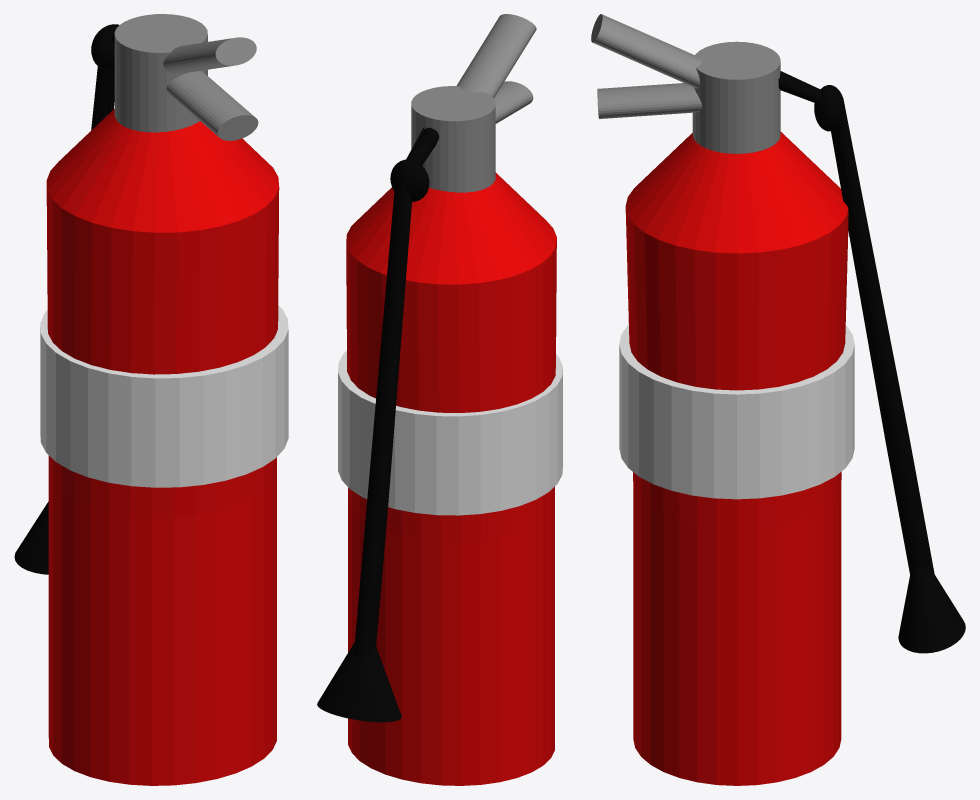
Rendered from fire_extinguisher.gltf.
3 renders of one model, left to right at view 1: azimuth 30°, elevation 25°; view 2: azimuth 150°, elevation 25°; view 3: azimuth 270°, elevation 25°, orthographic. The views are drawn at different scales.
Visible parts, largest first — view 1: Cylinder, Cylinder.006, Cylinder.001, Cylinder.005, Cylinder.004, Cone, Cylinder.002, Sphere; view 2: Cylinder, Cylinder.006, Cylinder.002, Cylinder.001, Cone, Cylinder.004, Sphere, Cylinder.005, Cylinder.003; view 3: Cylinder, Cylinder.006, Cylinder.002, Cylinder.001, Cone, Cylinder.004, Cylinder.005, Sphere, Cylinder.003.
Part boxes in pixels (x1=…): Cylinder: x1=46, y1=108, x2=279, y2=785; Cylinder.006: x1=40, y1=305, x2=288, y2=487; Cylinder.001: x1=114, y1=14, x2=207, y2=132; Cylinder.005: x1=166, y1=70, x2=258, y2=140; Cylinder.004: x1=163, y1=37, x2=256, y2=73; Cone: x1=14, y1=501, x2=48, y2=574; Cylinder.002: x1=91, y1=66, x2=114, y2=130; Sphere: x1=91, y1=24, x2=118, y2=70; Cylinder: x1=346, y1=172, x2=556, y2=785; Cylinder.006: x1=338, y1=351, x2=562, y2=515; Cylinder.002: x1=354, y1=175, x2=411, y2=658; Cylinder.001: x1=411, y1=86, x2=495, y2=192; Cone: x1=317, y1=642, x2=401, y2=722; Cylinder.004: x1=456, y1=14, x2=536, y2=98; Sphere: x1=390, y1=159, x2=429, y2=201; Cylinder.005: x1=494, y1=81, x2=533, y2=123; Cylinder.003: x1=406, y1=127, x2=438, y2=165; Cylinder: x1=625, y1=131, x2=848, y2=785; Cylinder.006: x1=619, y1=324, x2=854, y2=499; Cylinder.002: x1=831, y1=97, x2=934, y2=576; Cylinder.001: x1=692, y1=41, x2=780, y2=153; Cone: x1=898, y1=567, x2=965, y2=653; Cylinder.004: x1=591, y1=14, x2=702, y2=88; Cylinder.005: x1=597, y1=83, x2=702, y2=118; Sphere: x1=814, y1=85, x2=844, y2=131; Cylinder.003: x1=778, y1=71, x2=821, y2=103.
Bounding box in the file's own units: 2.15 × 7.12 × 3.36.
